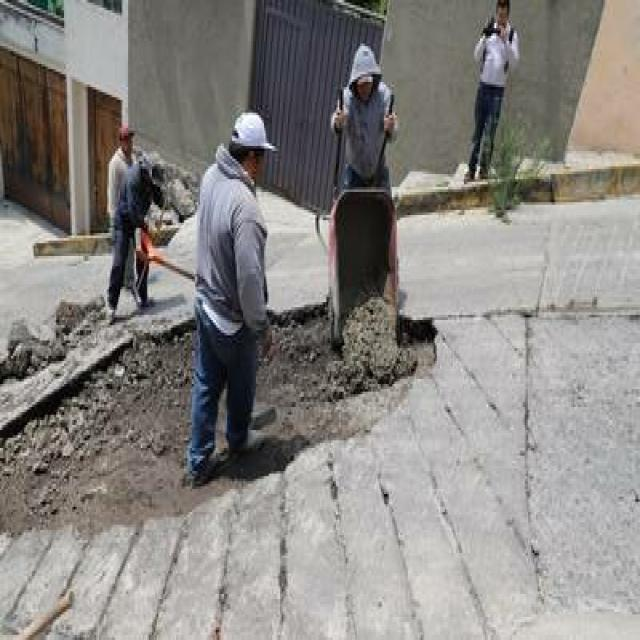Buraco: (0, 297, 445, 547)
